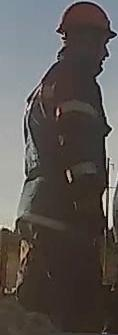helmet: (53, 0, 118, 39)
vest: (22, 60, 110, 238)
